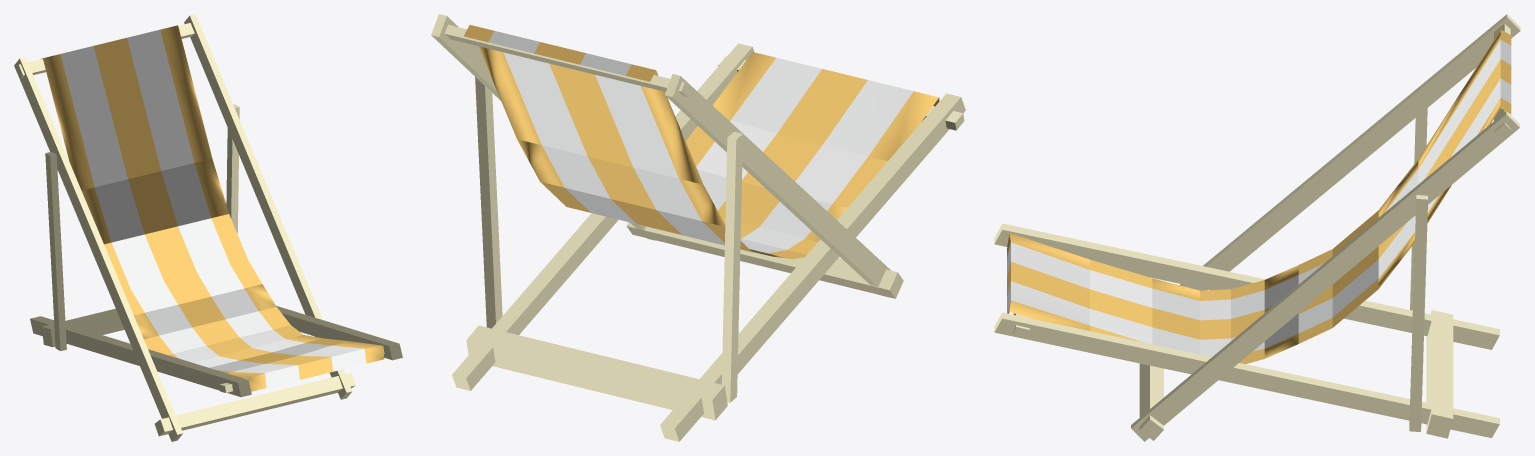
File: Chair 2.fbx
3 renders of one model, left to right at view 1: azimuth 30°, elevation 25°; view 2: azimuth 150°, elevation 25°; view 3: azimuth 270°, elevation 25°, orthographic. The views are drawn at different scales.
Parts seen in each view (by area): view 1: Cube002; view 2: Cube002; view 3: Cube002.
Boxes of the visible parts, x1,y1,x2,y2 form: Cube002: (14, 14, 402, 441); Cube002: (431, 14, 965, 441); Cube002: (994, 14, 1520, 441).
Size of the model in its own units: 104 by 151 by 75.96.
